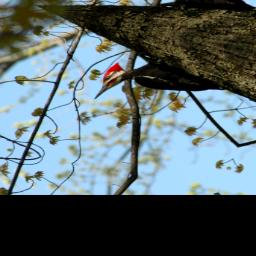Woodpecker: (91, 48, 235, 128)
